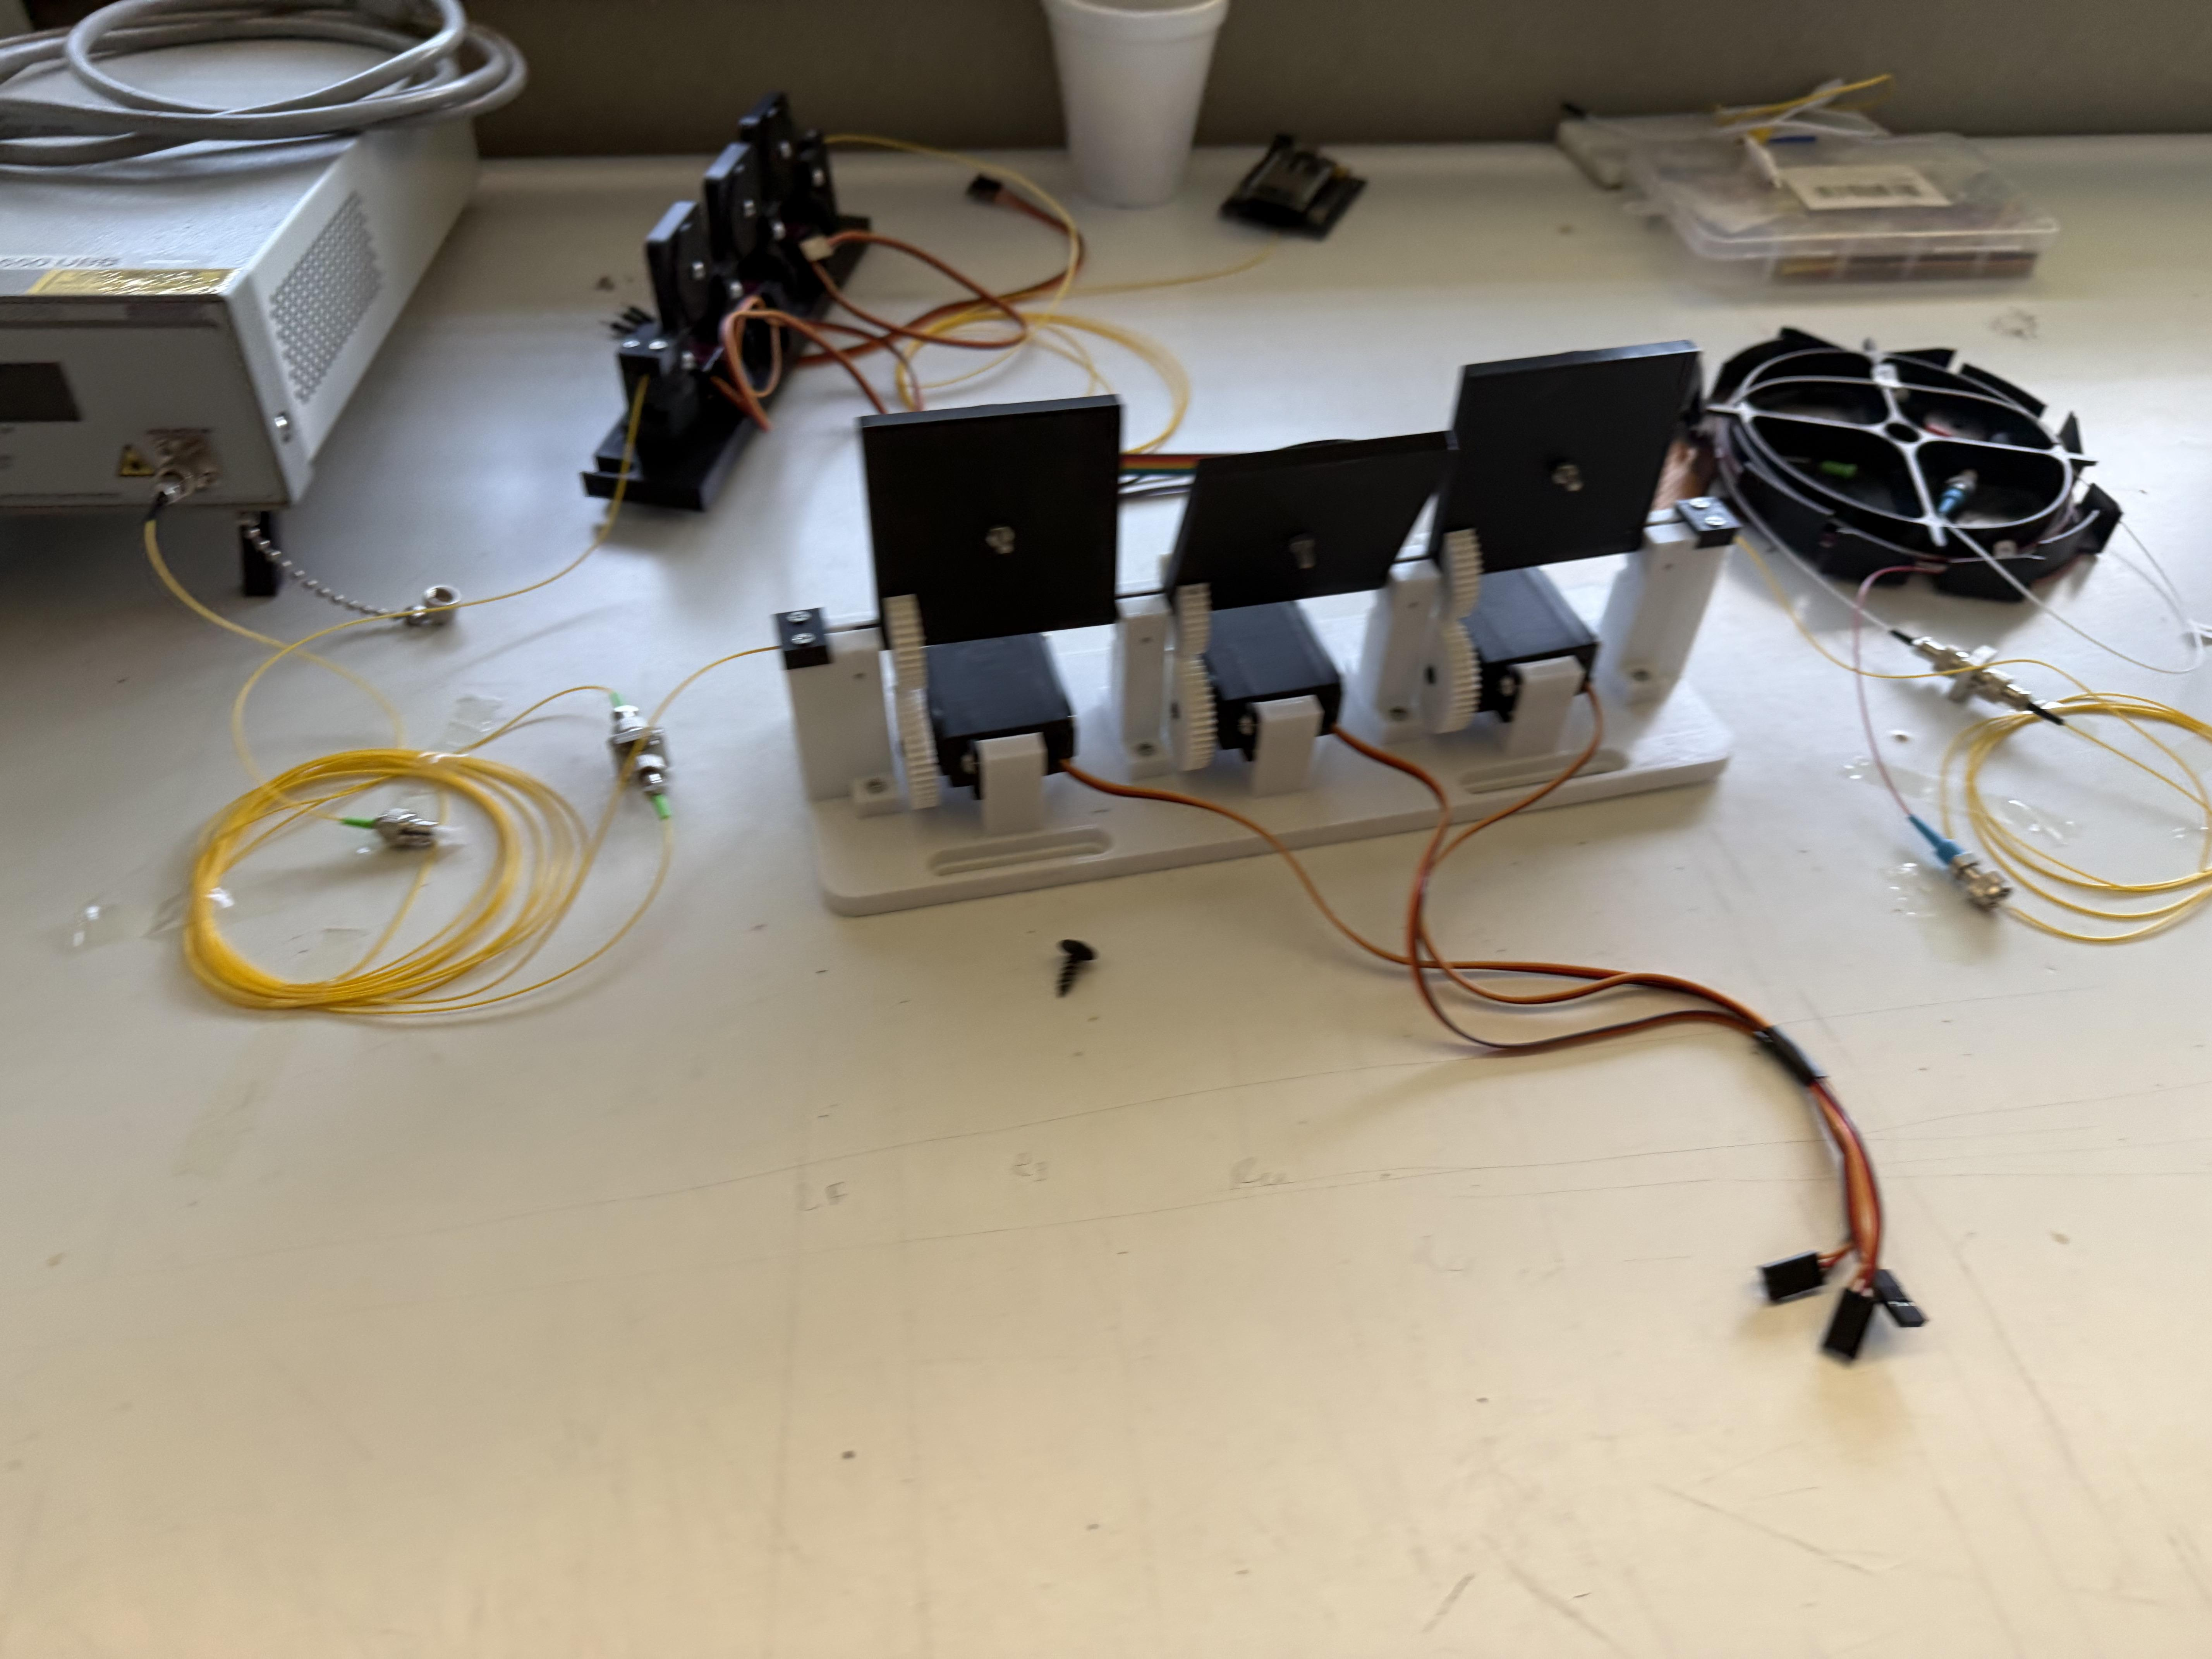fiber_cable: (134, 749, 578, 1032)
laser: (0, 14, 486, 598)
paddle_polarization_controller: (740, 329, 1743, 938), (566, 85, 892, 528)
